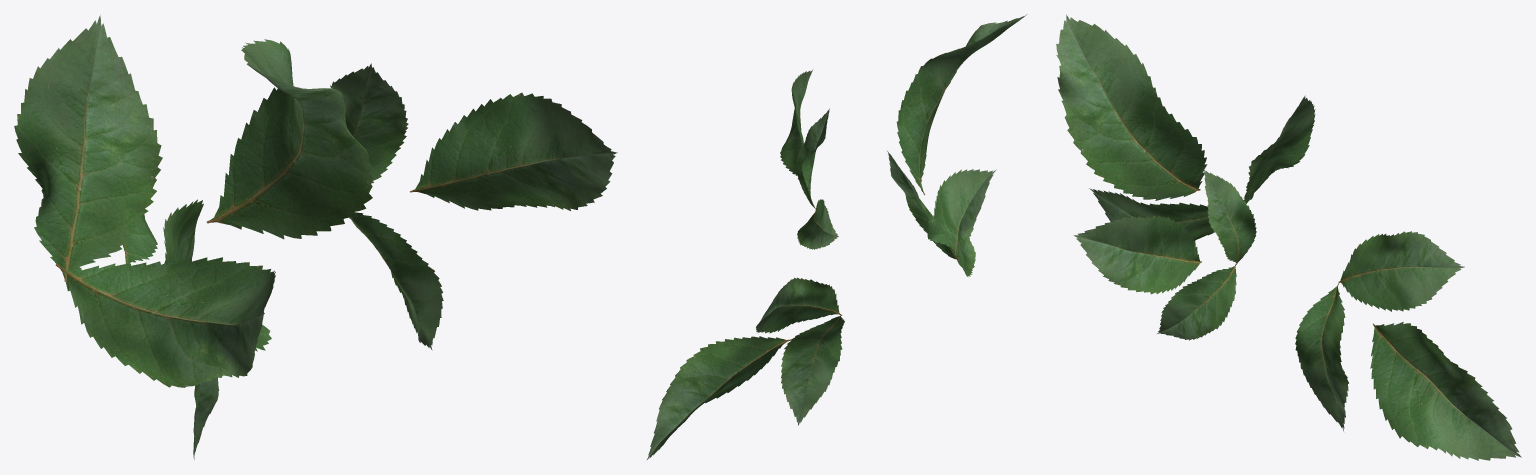
The model's file is RoseFloralLeaf.obj.
3 views of the same model, side by side, from view 1: azimuth 30°, elevation 25°; view 2: azimuth 150°, elevation 25°; view 3: azimuth 270°, elevation 25° (orthographic). The views are drawn at different scales.
Visible parts, largest first — view 1: RoseFloralLeaf; view 2: RoseFloralLeaf; view 3: RoseFloralLeaf.
Part boxes in pixels (x1,y1,x2,y2): RoseFloralLeaf: (14,15,617,459); RoseFloralLeaf: (646,14,1027,460); RoseFloralLeaf: (1056,14,1521,460).
Bounding box in the file's own units: 0.0766 × 0.1047 × 0.1206.
1 material, 1 textured.
